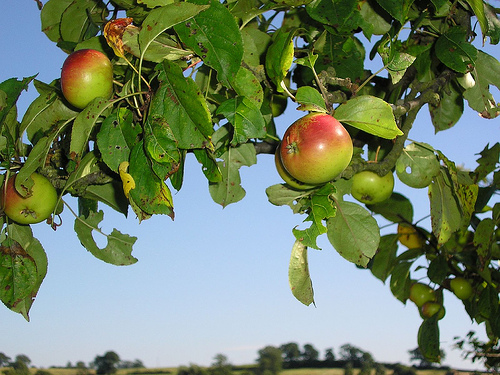apple: (271, 106, 363, 186), (56, 45, 122, 105)
